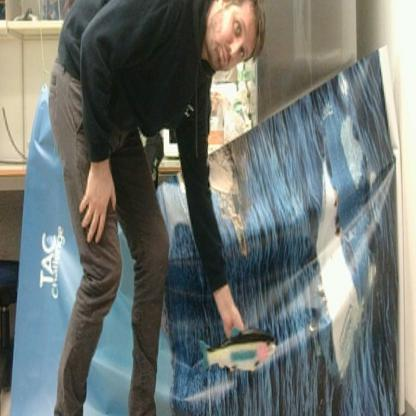rubberfish: (196, 326, 278, 374)
